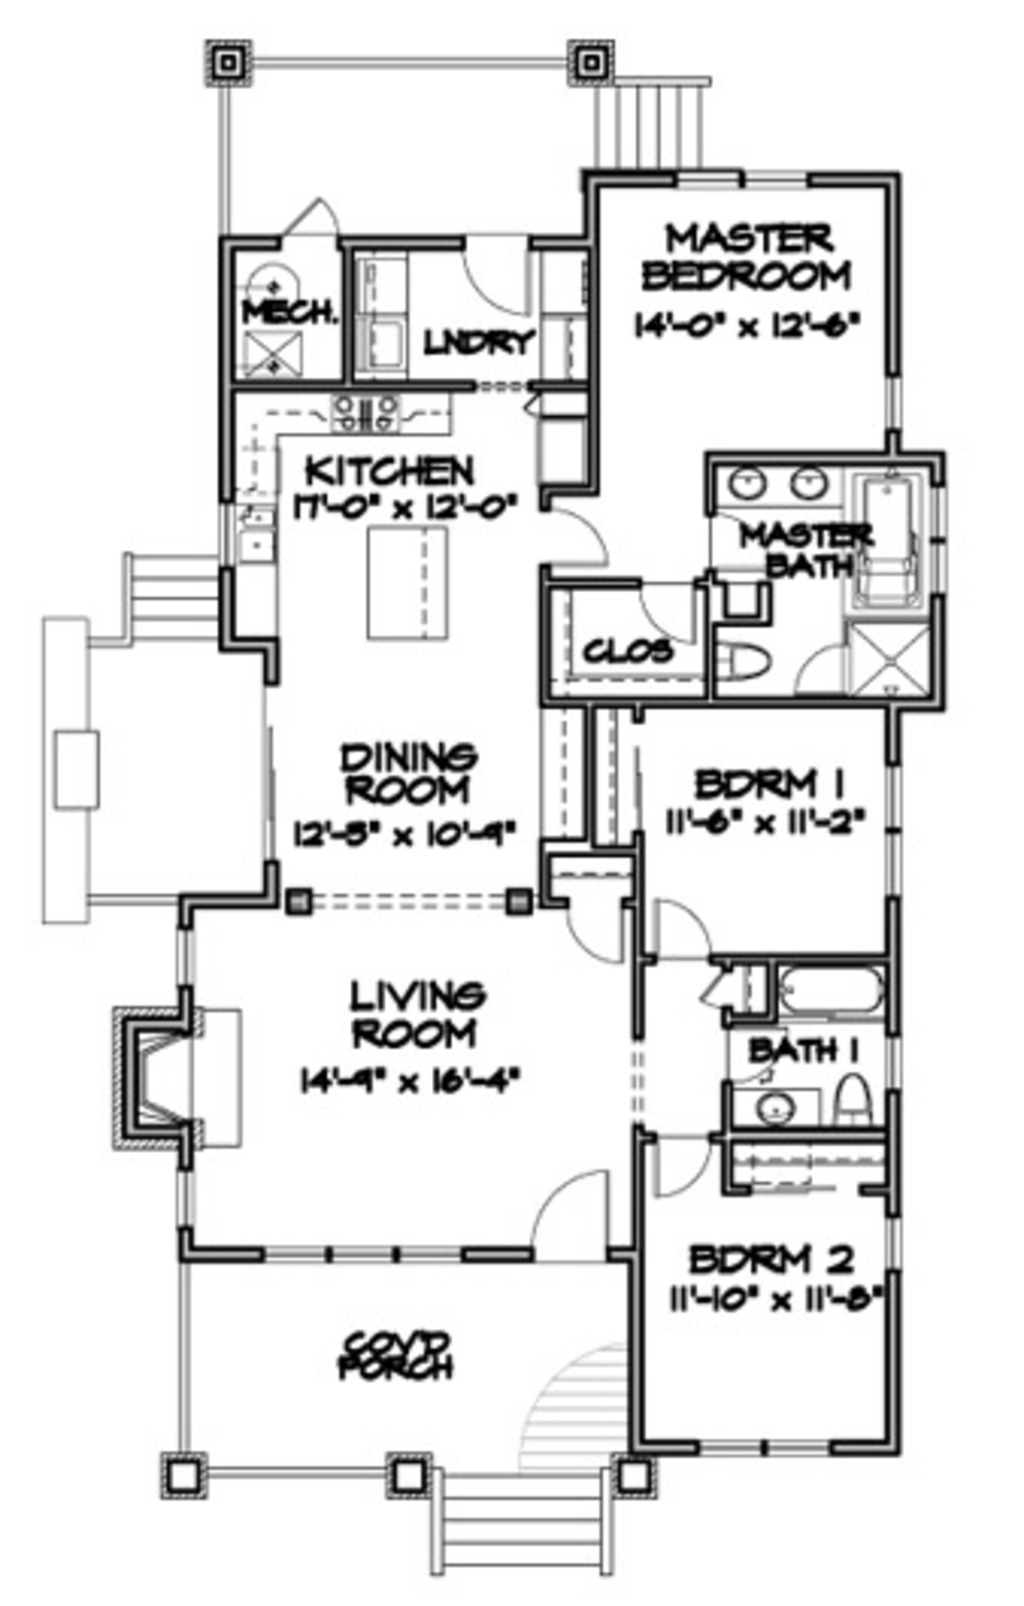door: (449, 213, 538, 329), (521, 1171, 616, 1263), (549, 883, 639, 976), (646, 1116, 723, 1204), (534, 496, 611, 576), (638, 898, 729, 963), (708, 494, 781, 567), (631, 574, 696, 648), (799, 636, 855, 701), (279, 194, 349, 241)
large_sink: (831, 1068, 878, 1138), (712, 636, 771, 688)
small_sink: (721, 457, 861, 505), (743, 1089, 809, 1130)
stairs: (414, 1446, 633, 1593), (92, 541, 241, 673), (593, 59, 728, 169)
tub: (783, 968, 884, 1013)
window: (250, 1236, 463, 1267), (926, 481, 958, 599), (686, 1436, 834, 1461), (674, 163, 806, 188), (866, 366, 908, 438)
